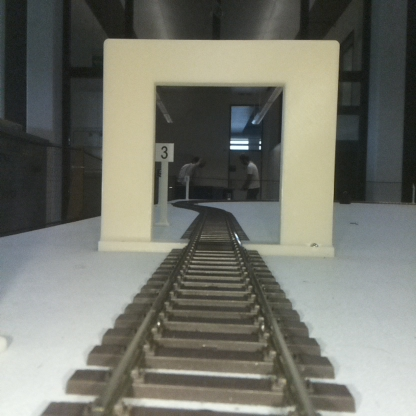white-info-3: (155, 143, 173, 226)
